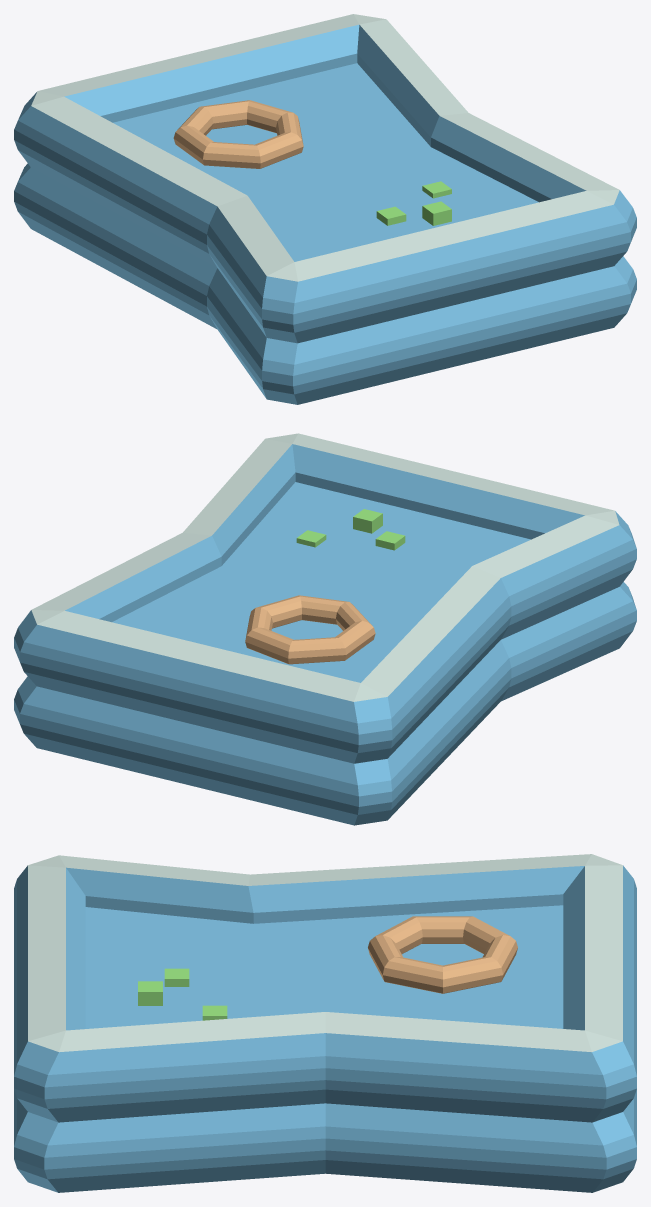
Rendered from Kids_Pool.fbx.
3 views of the same model, one above another, from view 1: azimuth 30°, elevation 25°; view 2: azimuth 150°, elevation 25°; view 3: azimuth 270°, elevation 25° (orthographic). The views are drawn at different scales.
Parts seen in each view (by area): view 1: Tub.001, Water.001, Top, Swimmingring, Toy; view 2: Tub.001, Water.001, Top, Swimmingring, Toy; view 3: Tub.001, Water.001, Top, Swimmingring, Toy.
Boxes of the visible parts, x1,y1,x2,y2 form: Tub.001: (14,24,636,404); Water.001: (113,63,538,261); Top: (31,14,619,281); Swimmingring: (173,100,303,168); Toy: (376,181,451,225); Tub.001: (14,444,636,825); Water.001: (112,482,530,682); Top: (31,433,619,701); Swimmingring: (245,595,375,664); Toy: (296,509,405,550); Tub.001: (14,865,636,1192); Water.001: (85,905,563,1028); Top: (28,854,622,1052); Swimmingring: (368,916,517,993); Toy: (138,968,227,1020).
Bounding box in the file's own units: 532 × 172 × 667.
